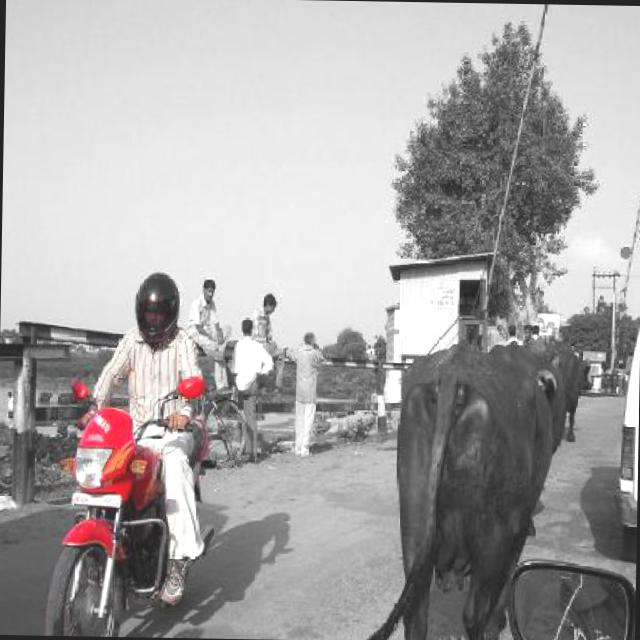Person: (76, 269, 211, 605), (230, 316, 276, 464), (188, 276, 236, 394), (285, 328, 329, 456), (253, 288, 286, 396), (528, 322, 548, 349), (506, 324, 525, 346), (8, 388, 15, 427), (524, 322, 536, 342)
